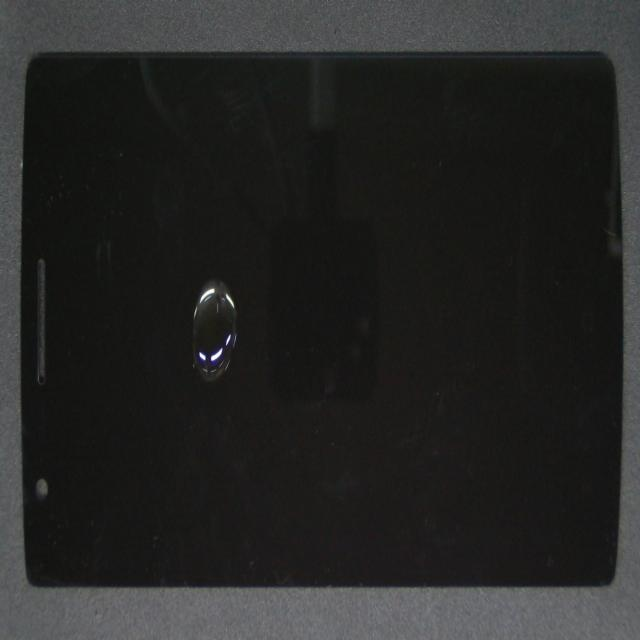oil: (132, 175, 348, 457)
